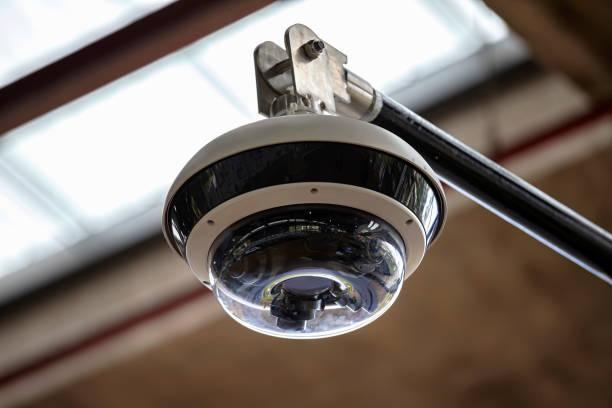camera: (128, 77, 465, 350)
